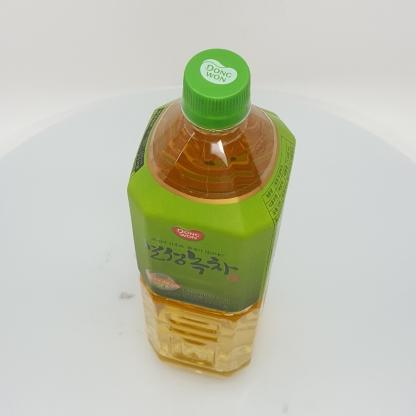------1500ML: (127, 49, 296, 378)
